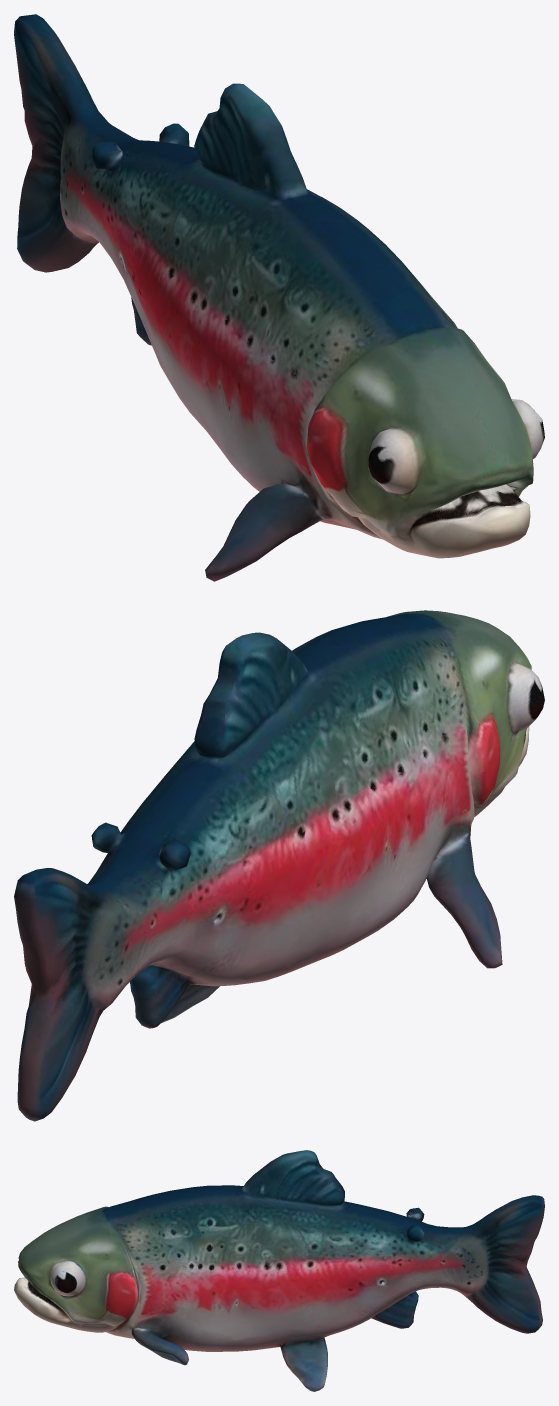
The model's file is rainbowtrout.glb.
The picture shows the model from 3 angles, top to bottom: view 1: azimuth 30°, elevation 25°; view 2: azimuth 150°, elevation 25°; view 3: azimuth 270°, elevation 25°; orthographic projection. The views are drawn at different scales.
Parts seen in each view (by area): view 1: tripo_node_ee6cdeb8-03c0-47d1-92dc-1c1ed278b84b; view 2: tripo_node_ee6cdeb8-03c0-47d1-92dc-1c1ed278b84b; view 3: tripo_node_ee6cdeb8-03c0-47d1-92dc-1c1ed278b84b.
Part boxes in pixels (bbox=[...]): tripo_node_ee6cdeb8-03c0-47d1-92dc-1c1ed278b84b: bbox=[14, 14, 544, 581]; tripo_node_ee6cdeb8-03c0-47d1-92dc-1c1ed278b84b: bbox=[14, 610, 544, 1121]; tripo_node_ee6cdeb8-03c0-47d1-92dc-1c1ed278b84b: bbox=[14, 1150, 544, 1391].
Size of the model in its own units: 0.3482 by 0.4553 by 1.
1 material, 1 textured.
